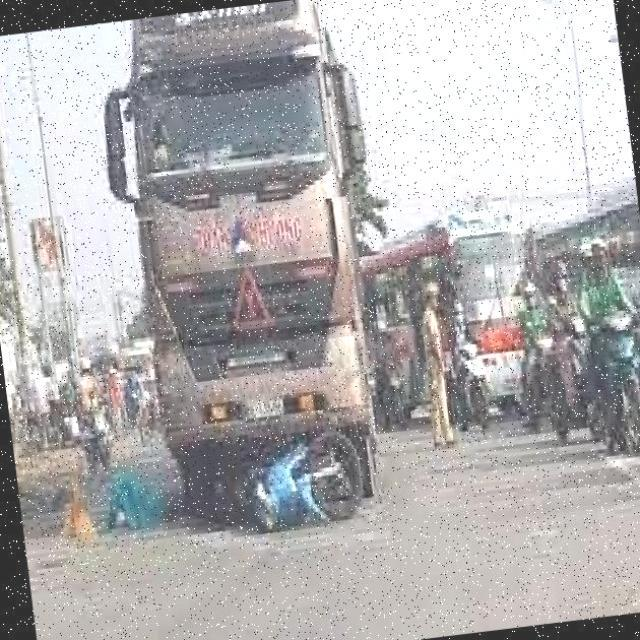accident: (181, 343, 407, 579)
